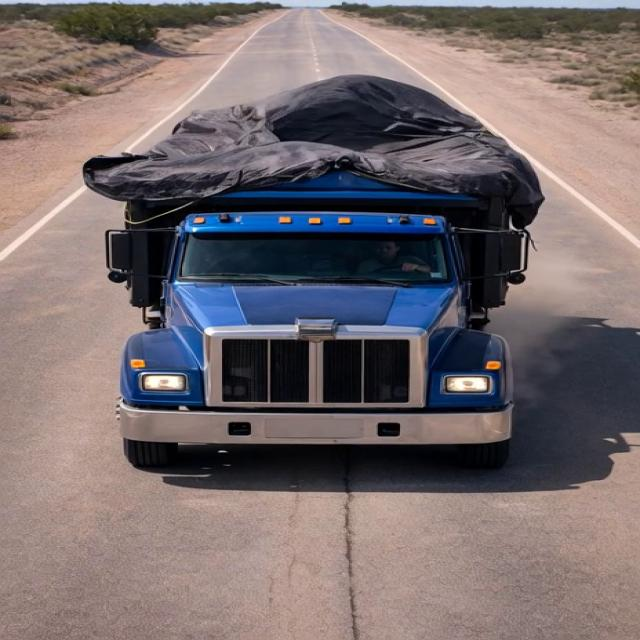trailer: (85, 71, 562, 212)
truck: (89, 43, 558, 462)
